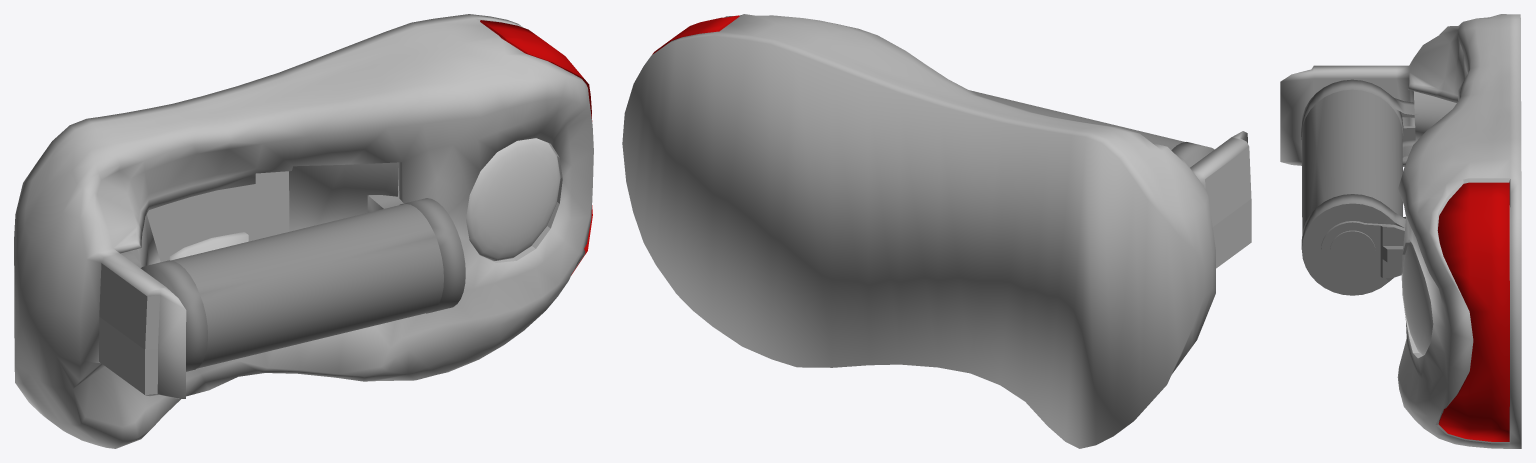
The model's file is RAnkleRoll.dae.
3 renders of one model, left to right at view 1: azimuth 30°, elevation 25°; view 2: azimuth 150°, elevation 25°; view 3: azimuth 270°, elevation 25°, orthographic. The views are drawn at different scales.
Parts seen in each view (by area): view 1: root_018; view 2: root_018; view 3: root_018.
Boxes of the visible parts, box(x1,y1,x2,y2) form: root_018: box(14, 14, 593, 448); root_018: box(622, 14, 1251, 448); root_018: box(1280, 14, 1521, 448).
Bounding box in the file's own units: 160 × 64.67 × 90.49.
